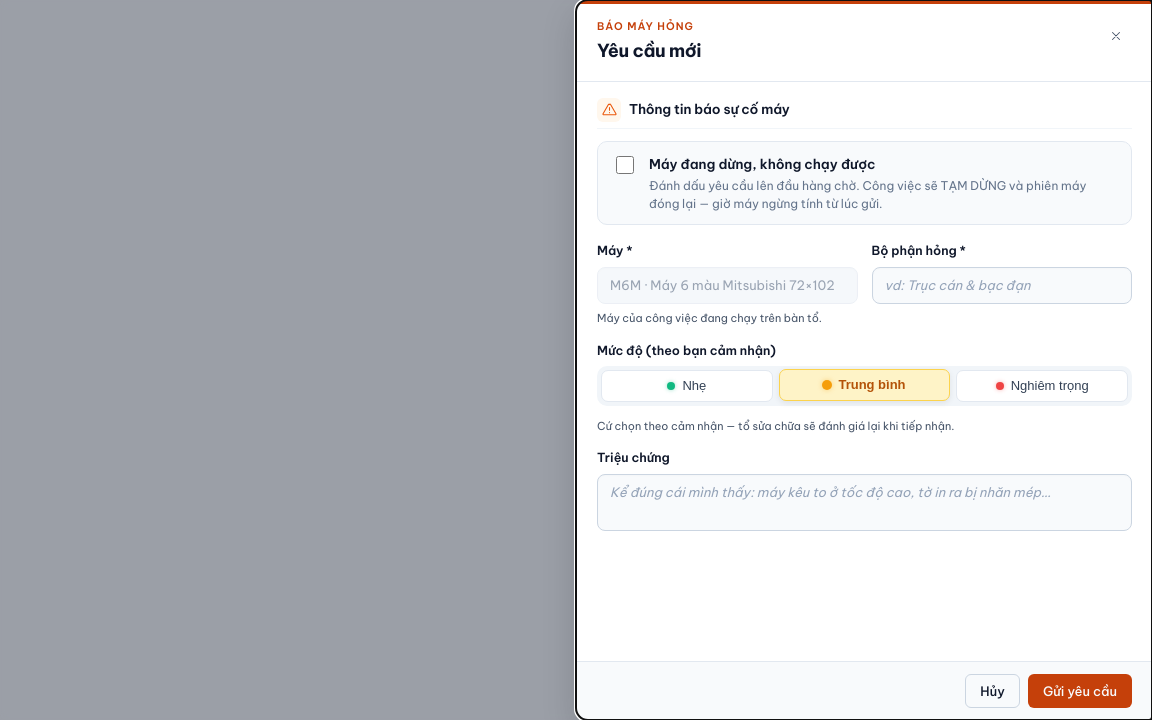
Test: ThsxBaoSuCoDialog — cùng khuôn ngăn kéo Báo máy hỏng › thiếu bộ phận hỏng thì không gửi và báo ngay dưới ô
The image size is (1152, 720).
Click the button "Gửi yêu cầu" at (1080,691), box [1028,674,1132,708]
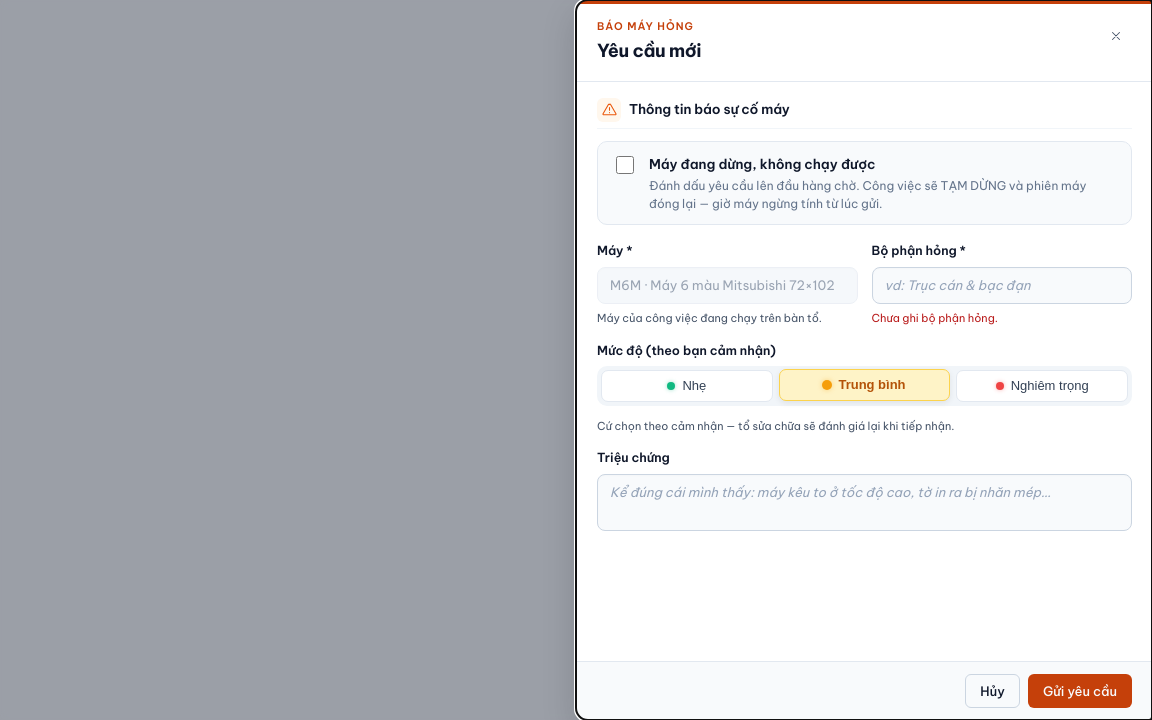
Expected: the text "Chưa ghi bộ phận hỏng." is shown, [872,311,998,325]
